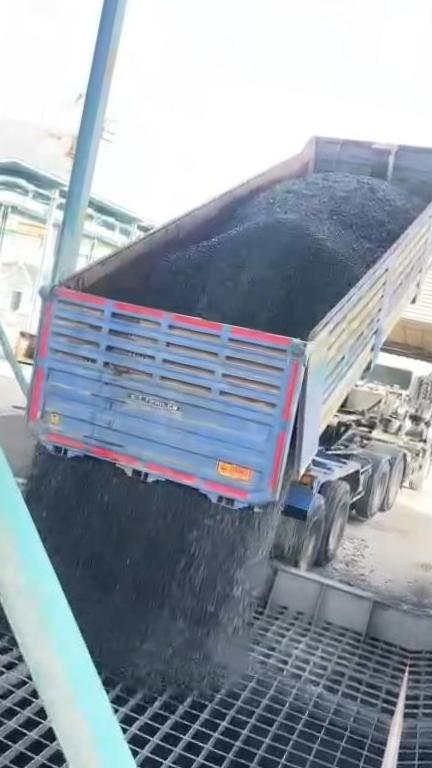gravel: (25, 451, 276, 689), (91, 173, 422, 337), (0, 550, 6, 628)
